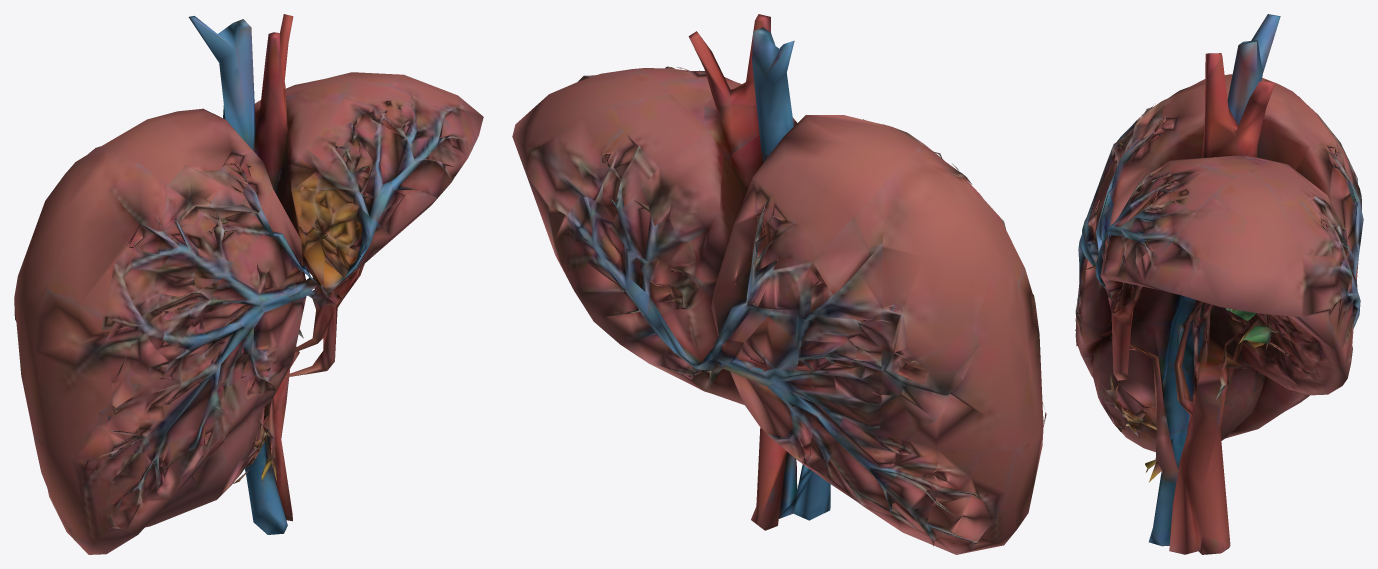
The model's file is liver-lod2.glb.
3 renders of one model, left to right at view 1: azimuth 30°, elevation 25°; view 2: azimuth 150°, elevation 25°; view 3: azimuth 270°, elevation 25°, orthographic. The views are drawn at different scales.
Parts seen in each view (by area): view 1: tripo_node_1c7e641c-603f-41bd-b81d-f90f99063845; view 2: tripo_node_1c7e641c-603f-41bd-b81d-f90f99063845; view 3: tripo_node_1c7e641c-603f-41bd-b81d-f90f99063845.
Boxes of the visible parts, <box> form: tripo_node_1c7e641c-603f-41bd-b81d-f90f99063845: <box>14,14,483,554</box>; tripo_node_1c7e641c-603f-41bd-b81d-f90f99063845: <box>512,14,1046,554</box>; tripo_node_1c7e641c-603f-41bd-b81d-f90f99063845: <box>1075,14,1363,554</box>.
Bounding box in the file's own units: 0.9904 × 0.9953 × 0.5092.
Materials: 1 (1 with a texture image).
